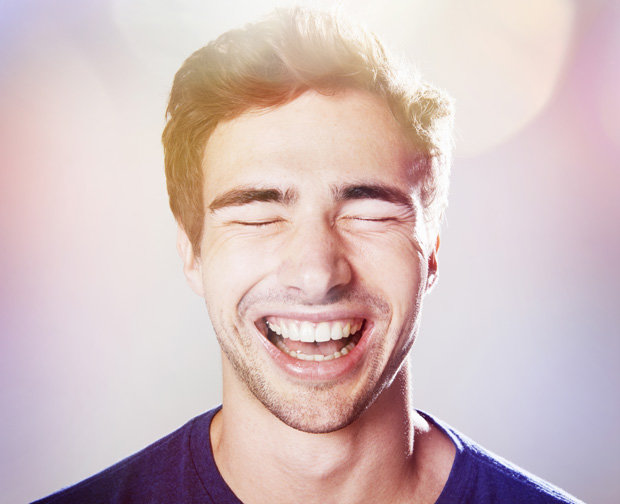happy: (194, 139, 436, 437)
